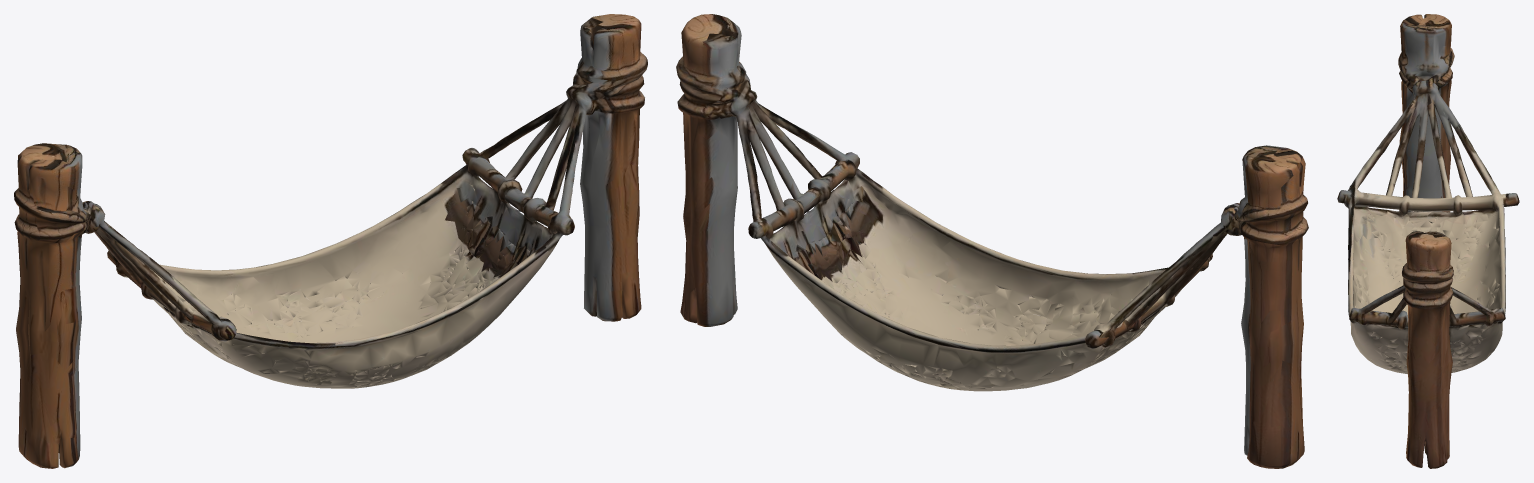
File: hammock.glb
3 views of the same model, side by side, from view 1: azimuth 30°, elevation 25°; view 2: azimuth 150°, elevation 25°; view 3: azimuth 270°, elevation 25° (orthographic). The views are drawn at different scales.
Parts seen in each view (by area): view 1: tripo_node_20c3ab65-f9e7-4ca0-a213-c9476df967c0; view 2: tripo_node_20c3ab65-f9e7-4ca0-a213-c9476df967c0; view 3: tripo_node_20c3ab65-f9e7-4ca0-a213-c9476df967c0.
Boxes of the visible parts, x1,y1,x2,y2 form: tripo_node_20c3ab65-f9e7-4ca0-a213-c9476df967c0: [14, 14, 647, 468]; tripo_node_20c3ab65-f9e7-4ca0-a213-c9476df967c0: [676, 14, 1308, 468]; tripo_node_20c3ab65-f9e7-4ca0-a213-c9476df967c0: [1337, 14, 1519, 468].
Size of the model in its own units: 1 by 0.4678 by 0.3293.
1 material, 1 textured.
